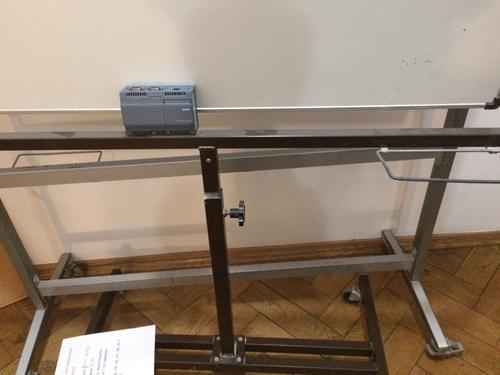iot2000: (117, 83, 200, 136)
